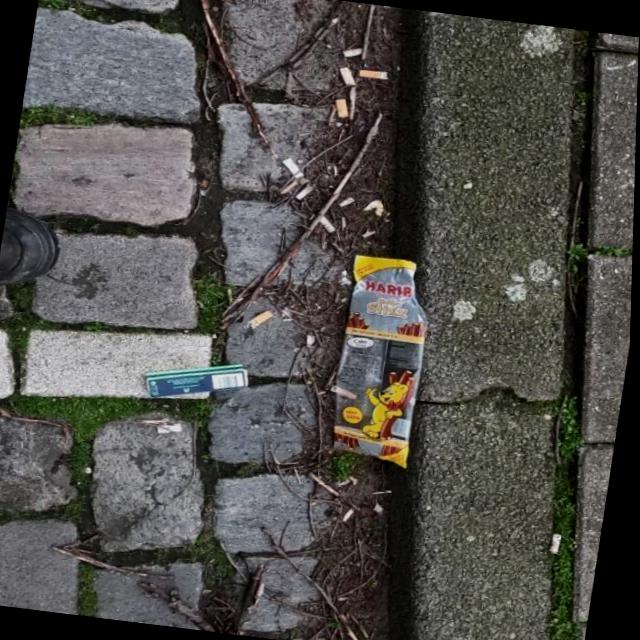Paper: (141, 351, 254, 412)
Plastic: (323, 252, 443, 468)
